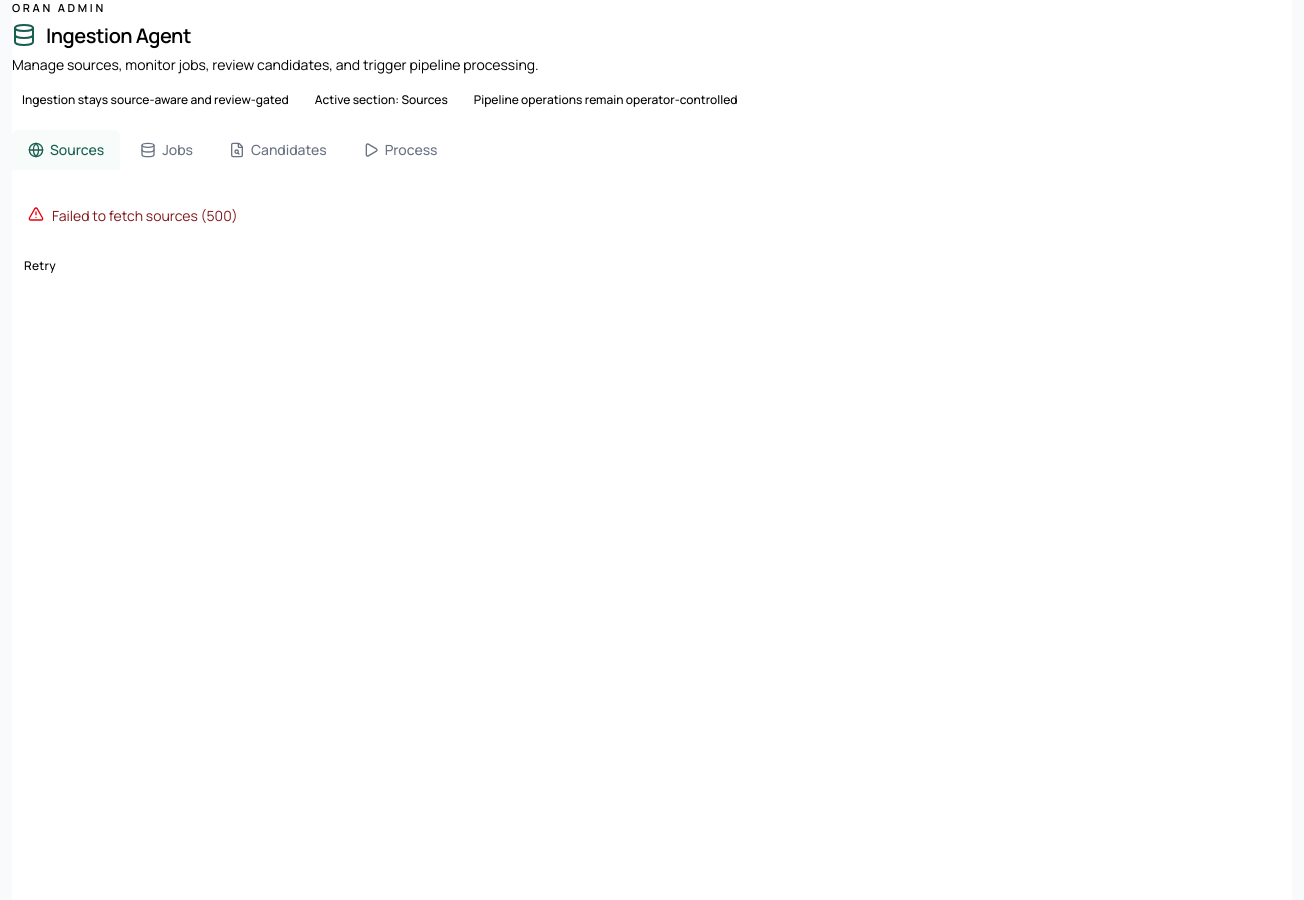
oran admin ingestion page › renders sources error state and recovers on retry
Expected: the message "Failed to fetch sources (500)" is shown, [28,206,238,225]
Expected: the text "Failed to fetch sources (500)" is shown, [52,206,238,225]
Click the button "Retry" at [40, 266], box [12,250,68,282]
(page scrolled)
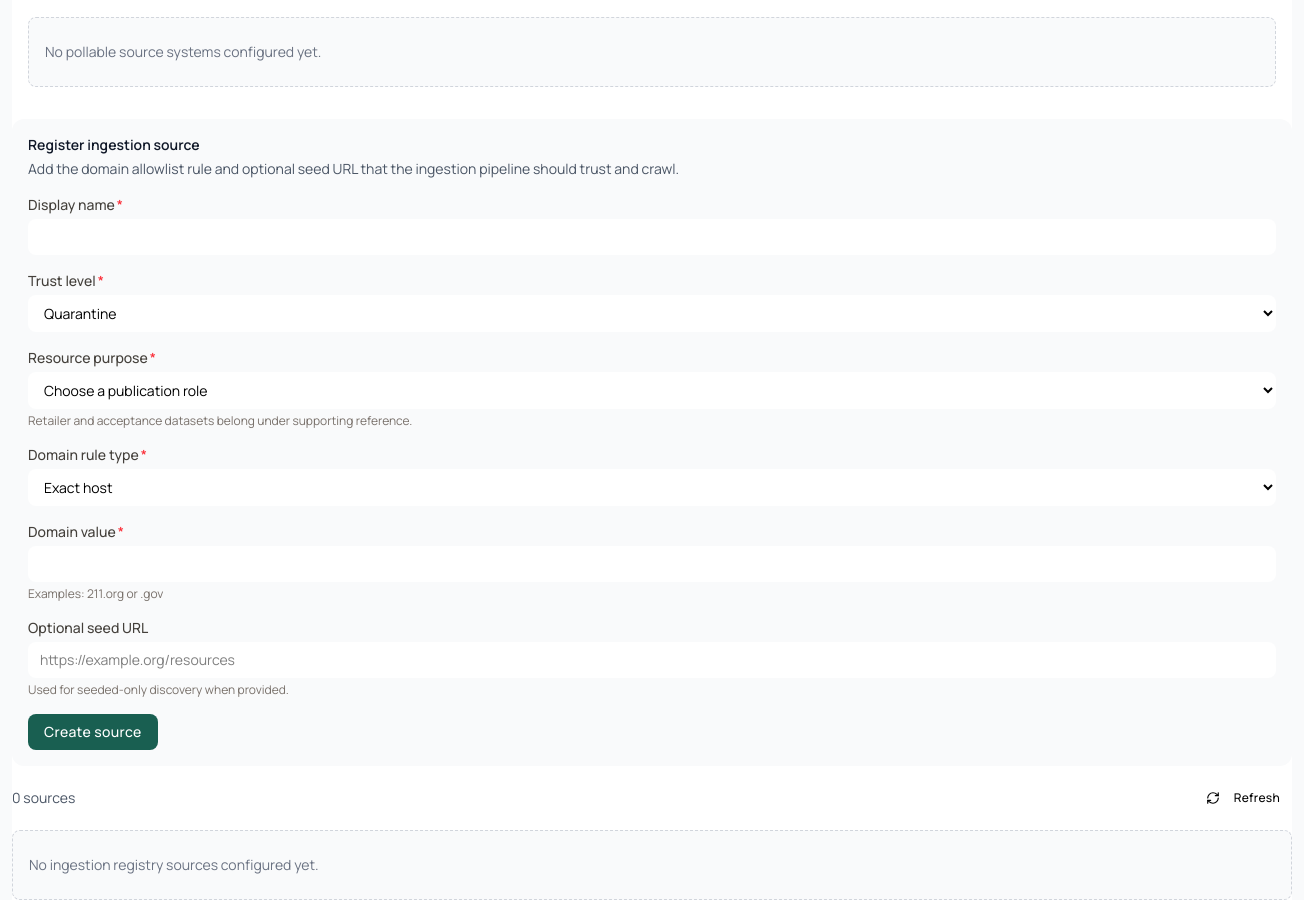
Now the text "No ingestion registry sources configured yet." is shown, box [12,830,1292,899]
